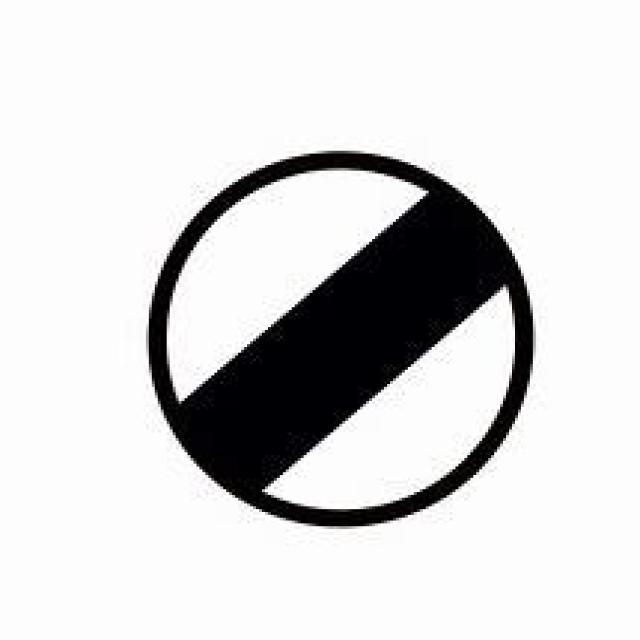restriction ends: (145, 151, 541, 528)
